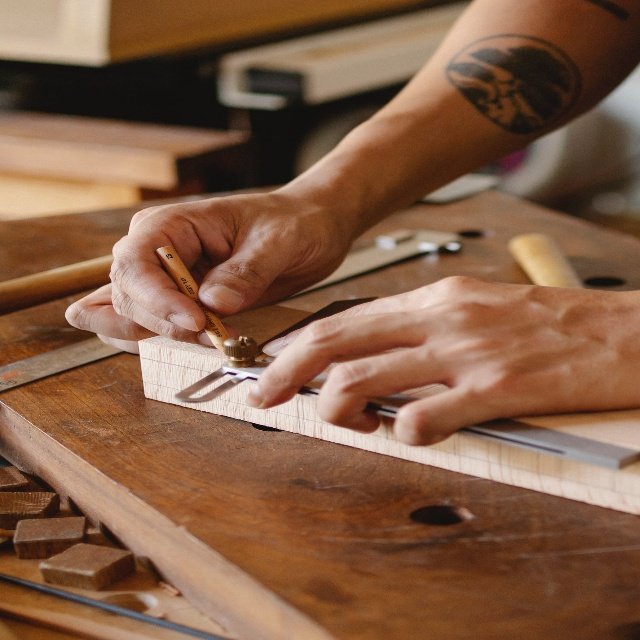Sin_guantes: (245, 274, 639, 448), (64, 186, 353, 356)
